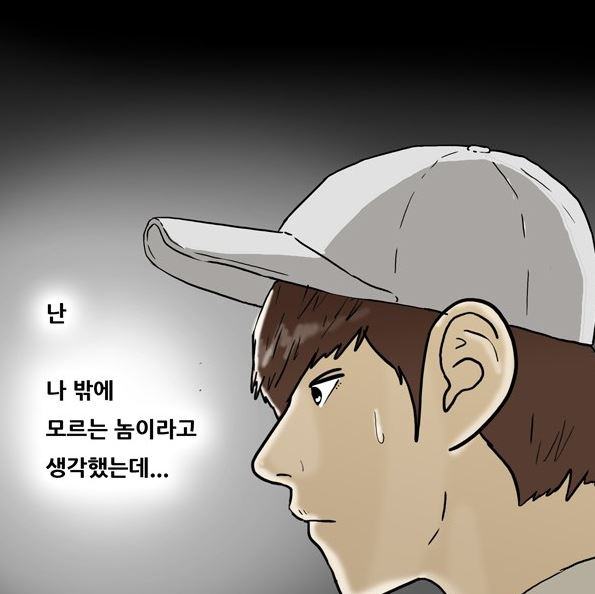hat: (143, 127, 595, 346)
